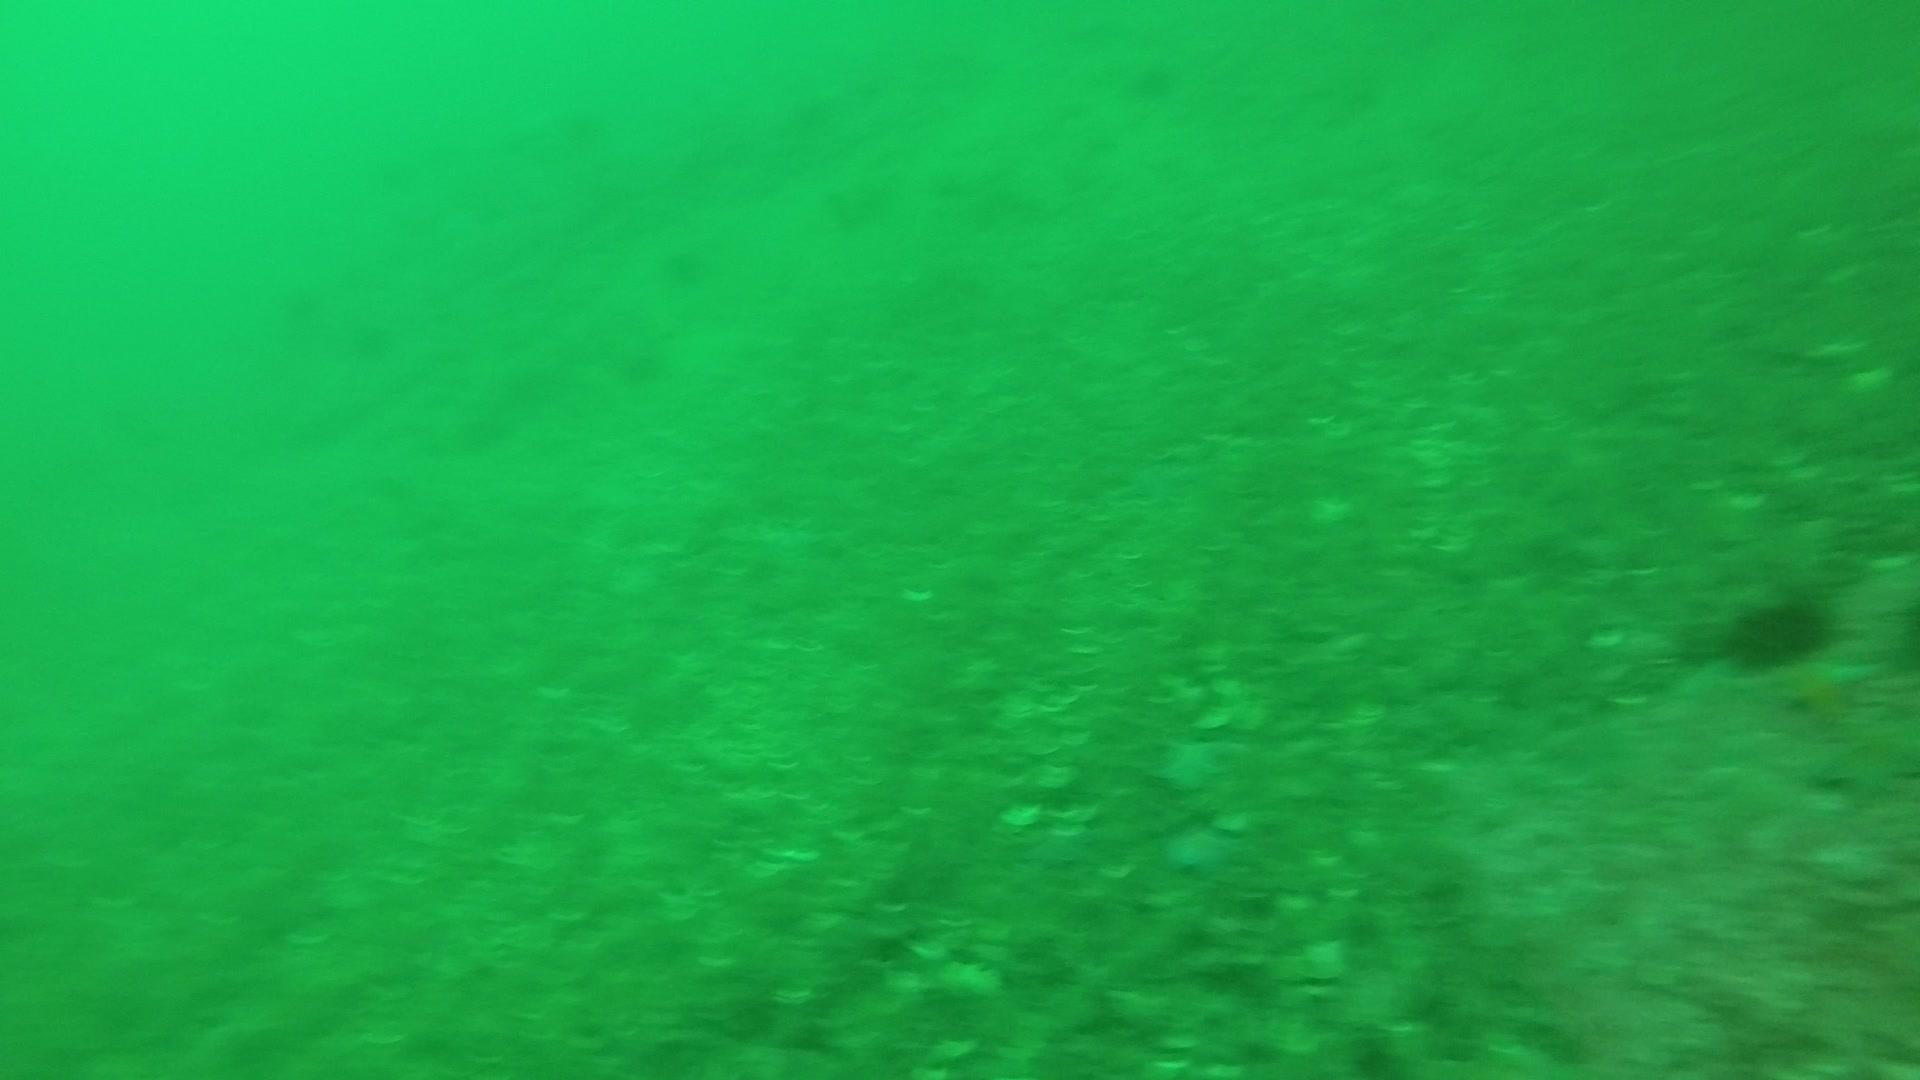echinus: (1718, 584, 1837, 675)
starfish: (1768, 647, 1880, 723)
